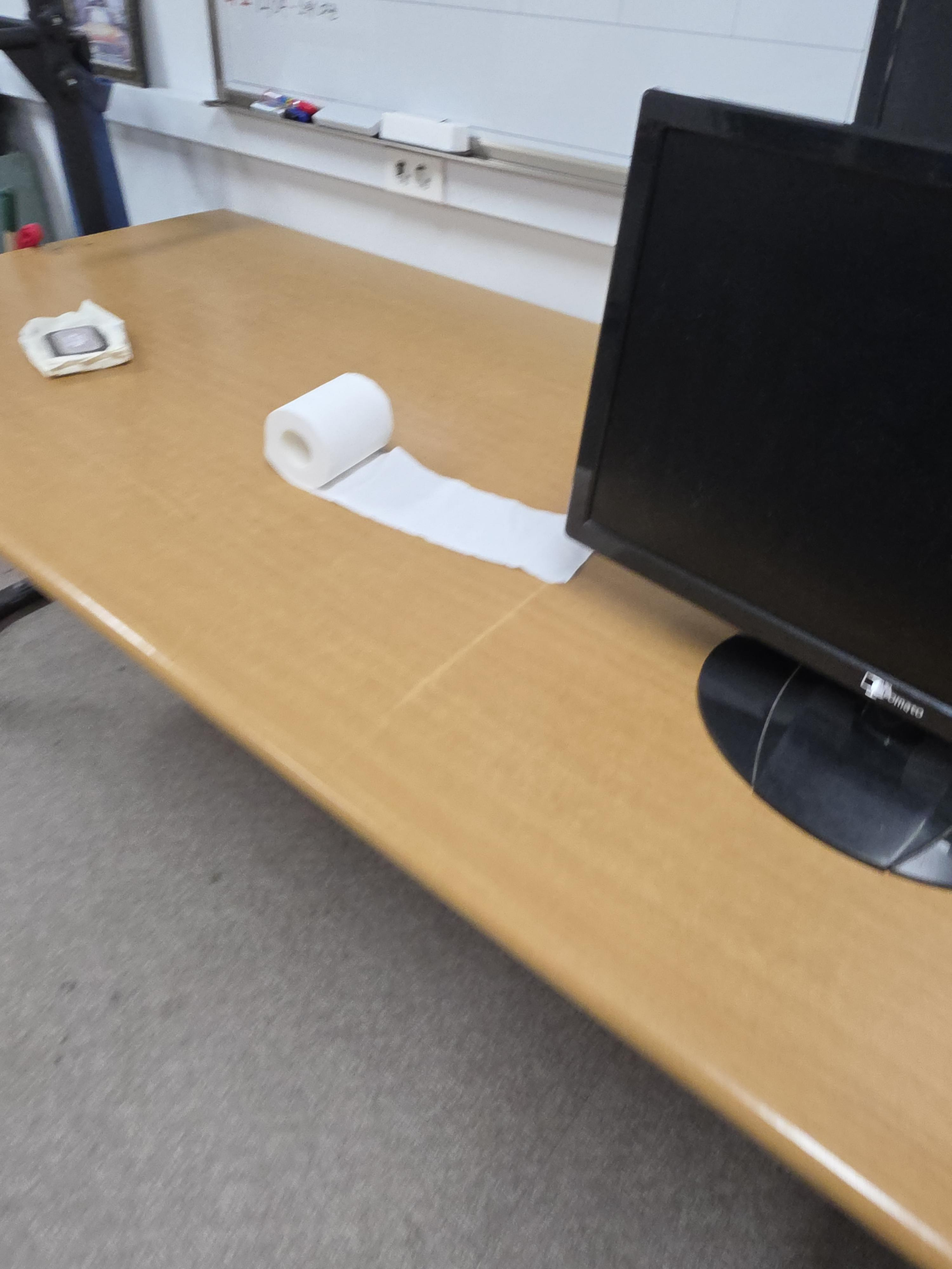tissue: (263, 372, 593, 585)
